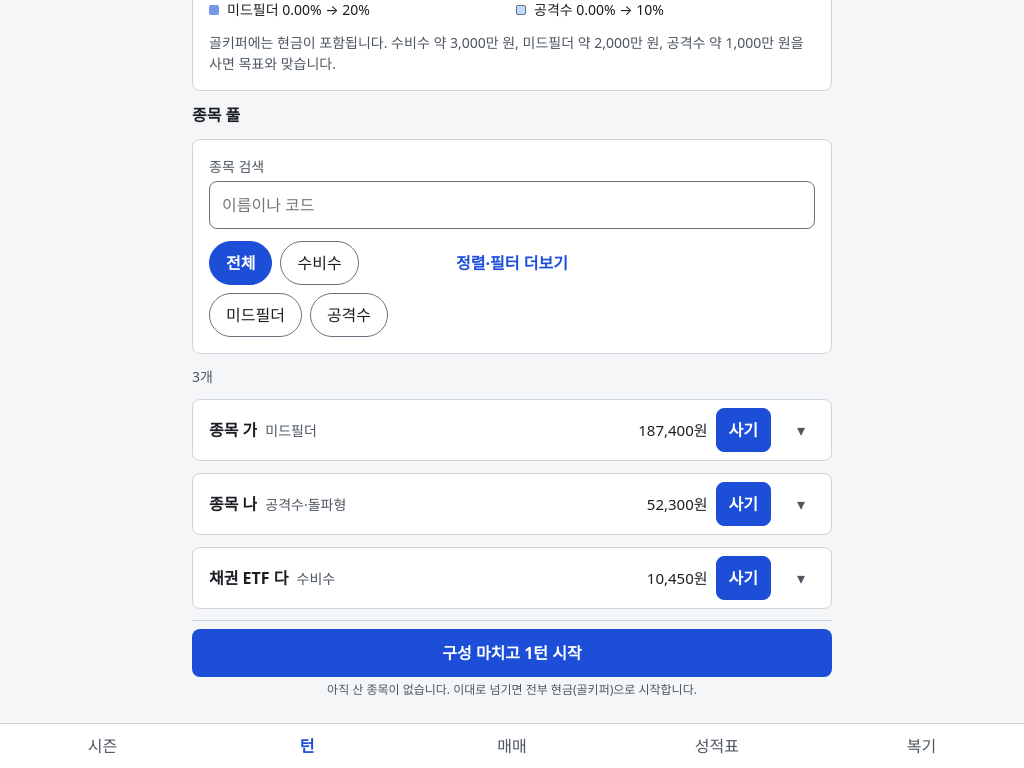
OrderSheet › returns focus to the card after the sheet is closed with a button
(page scrolled)
Click the button with aria-label "종목 가 사기" at (743, 430), box 716,408 -> 771,452
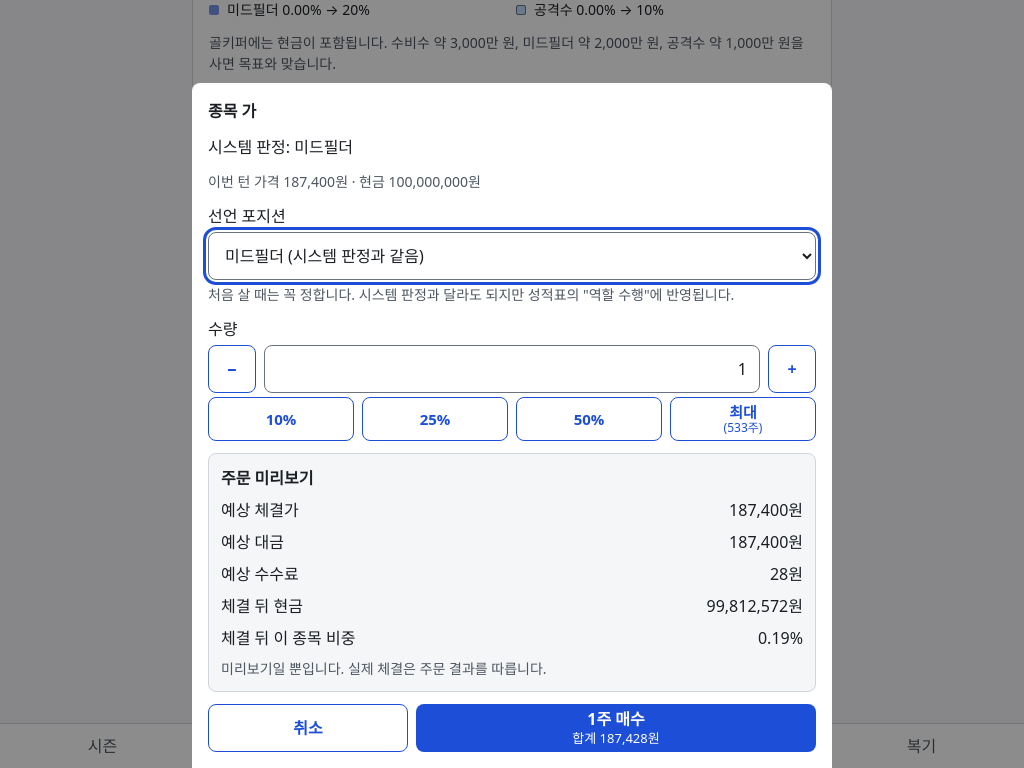
Click the button "취소" at (308, 728), box 208,704 -> 408,752
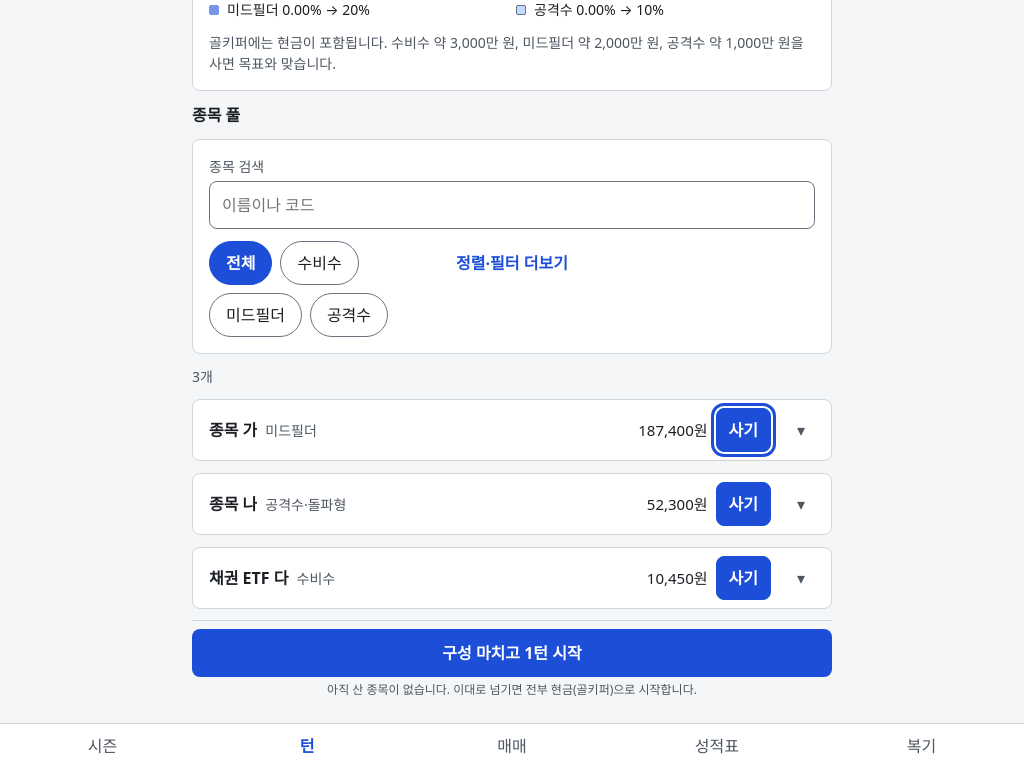
Now the dialog is gone
Click the button with aria-label "종목 가 사기" at (743, 430), box 716,408 -> 771,452
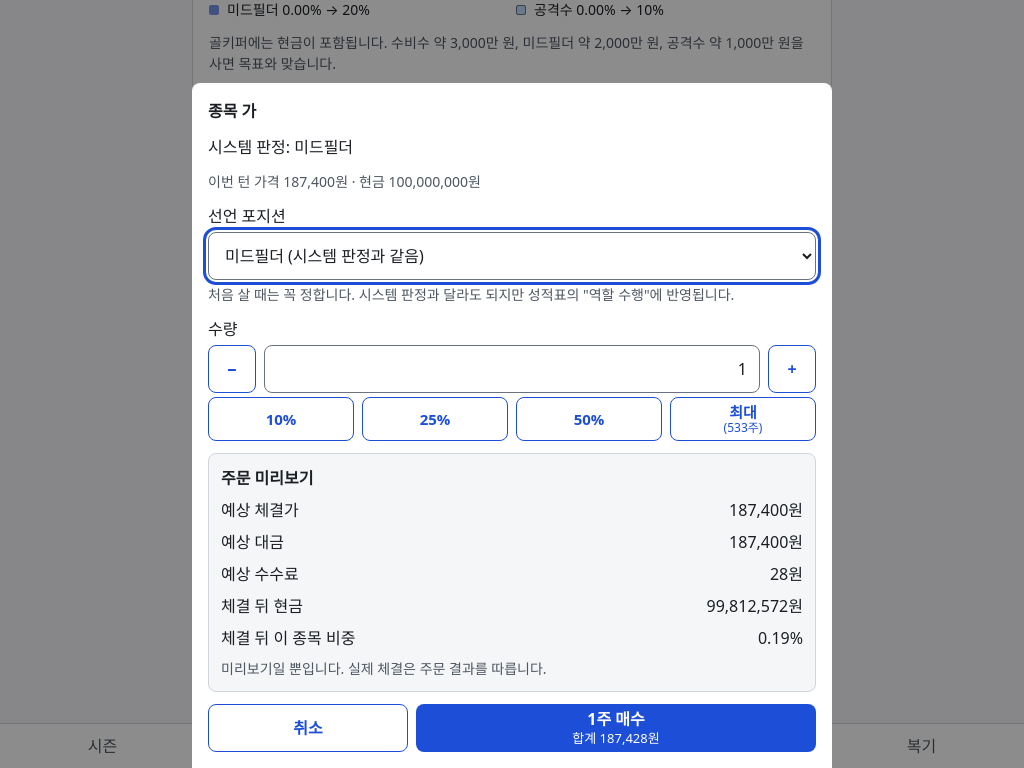
Click the button "1주 매수 합계 187,428원" at (616, 728), box 416,704 -> 816,752
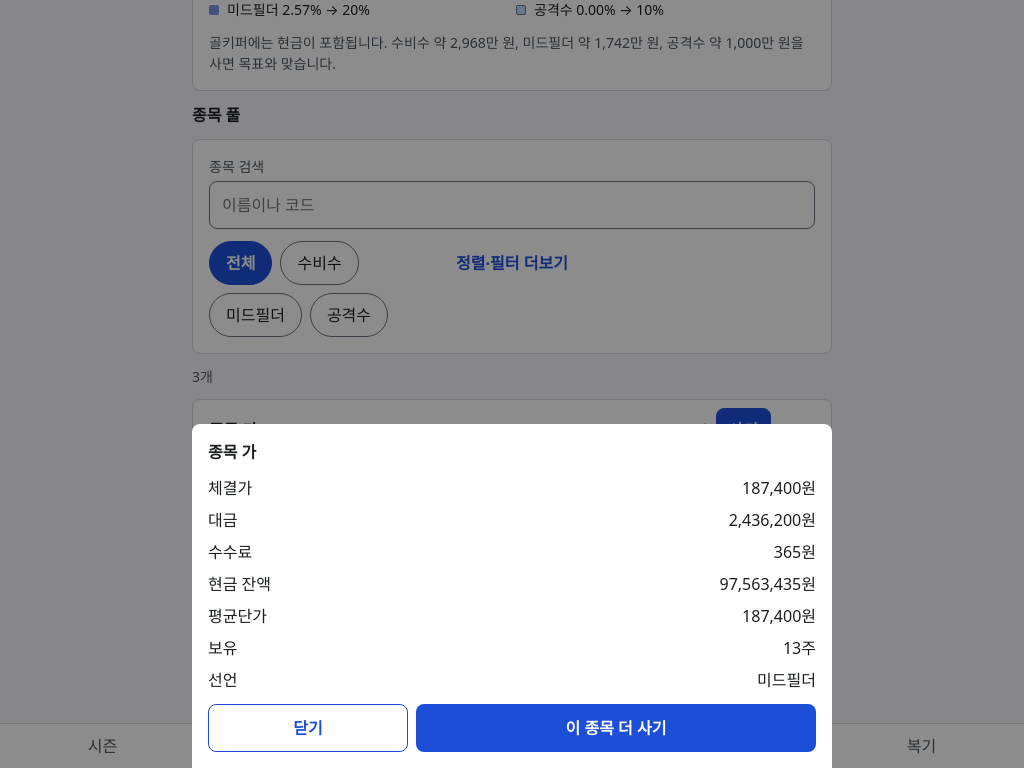
Now the text "체결가" is shown, box 208,476 -> 252,500
Click the button "닫기" at (308, 728), box 208,704 -> 408,752
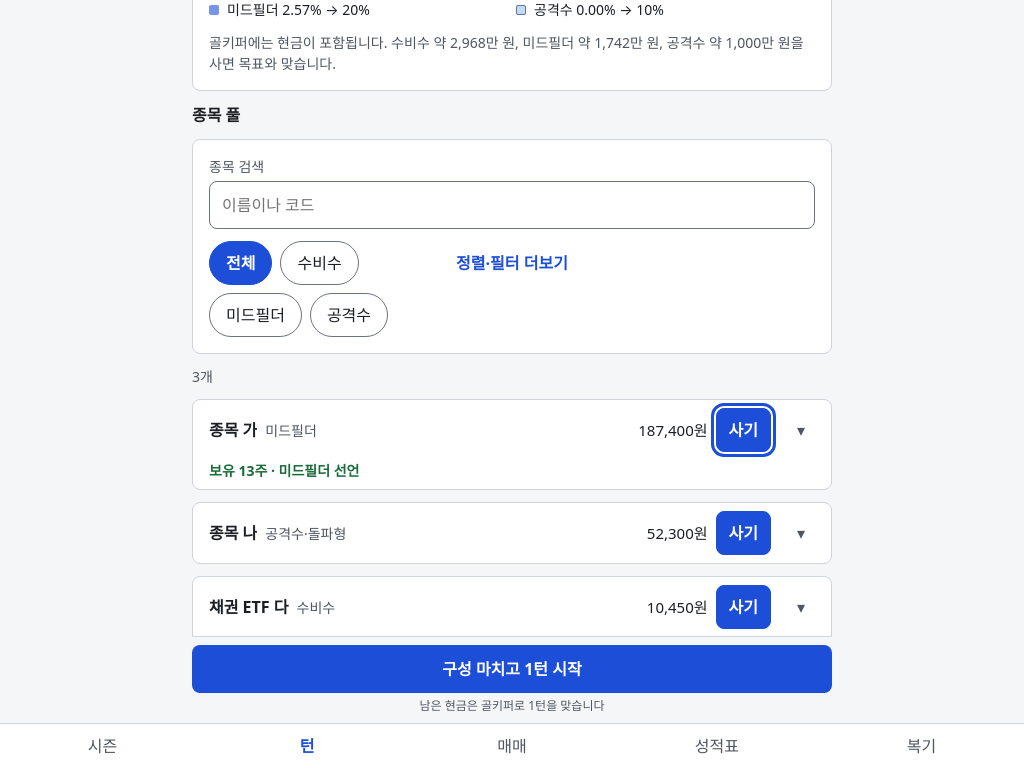
Now the dialog is gone
